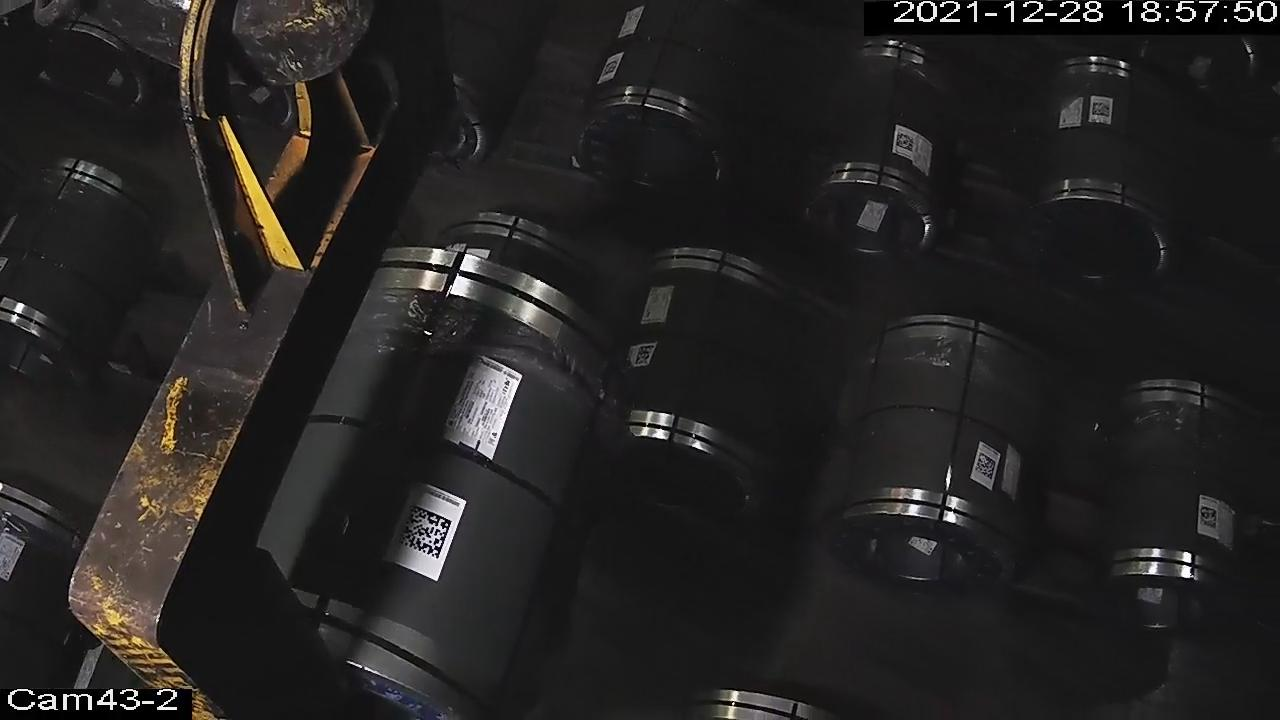data matrix: (392, 502, 455, 563), (974, 451, 999, 483), (1198, 504, 1221, 531), (895, 131, 918, 155), (634, 344, 657, 368), (1089, 98, 1114, 119), (600, 58, 622, 79)
